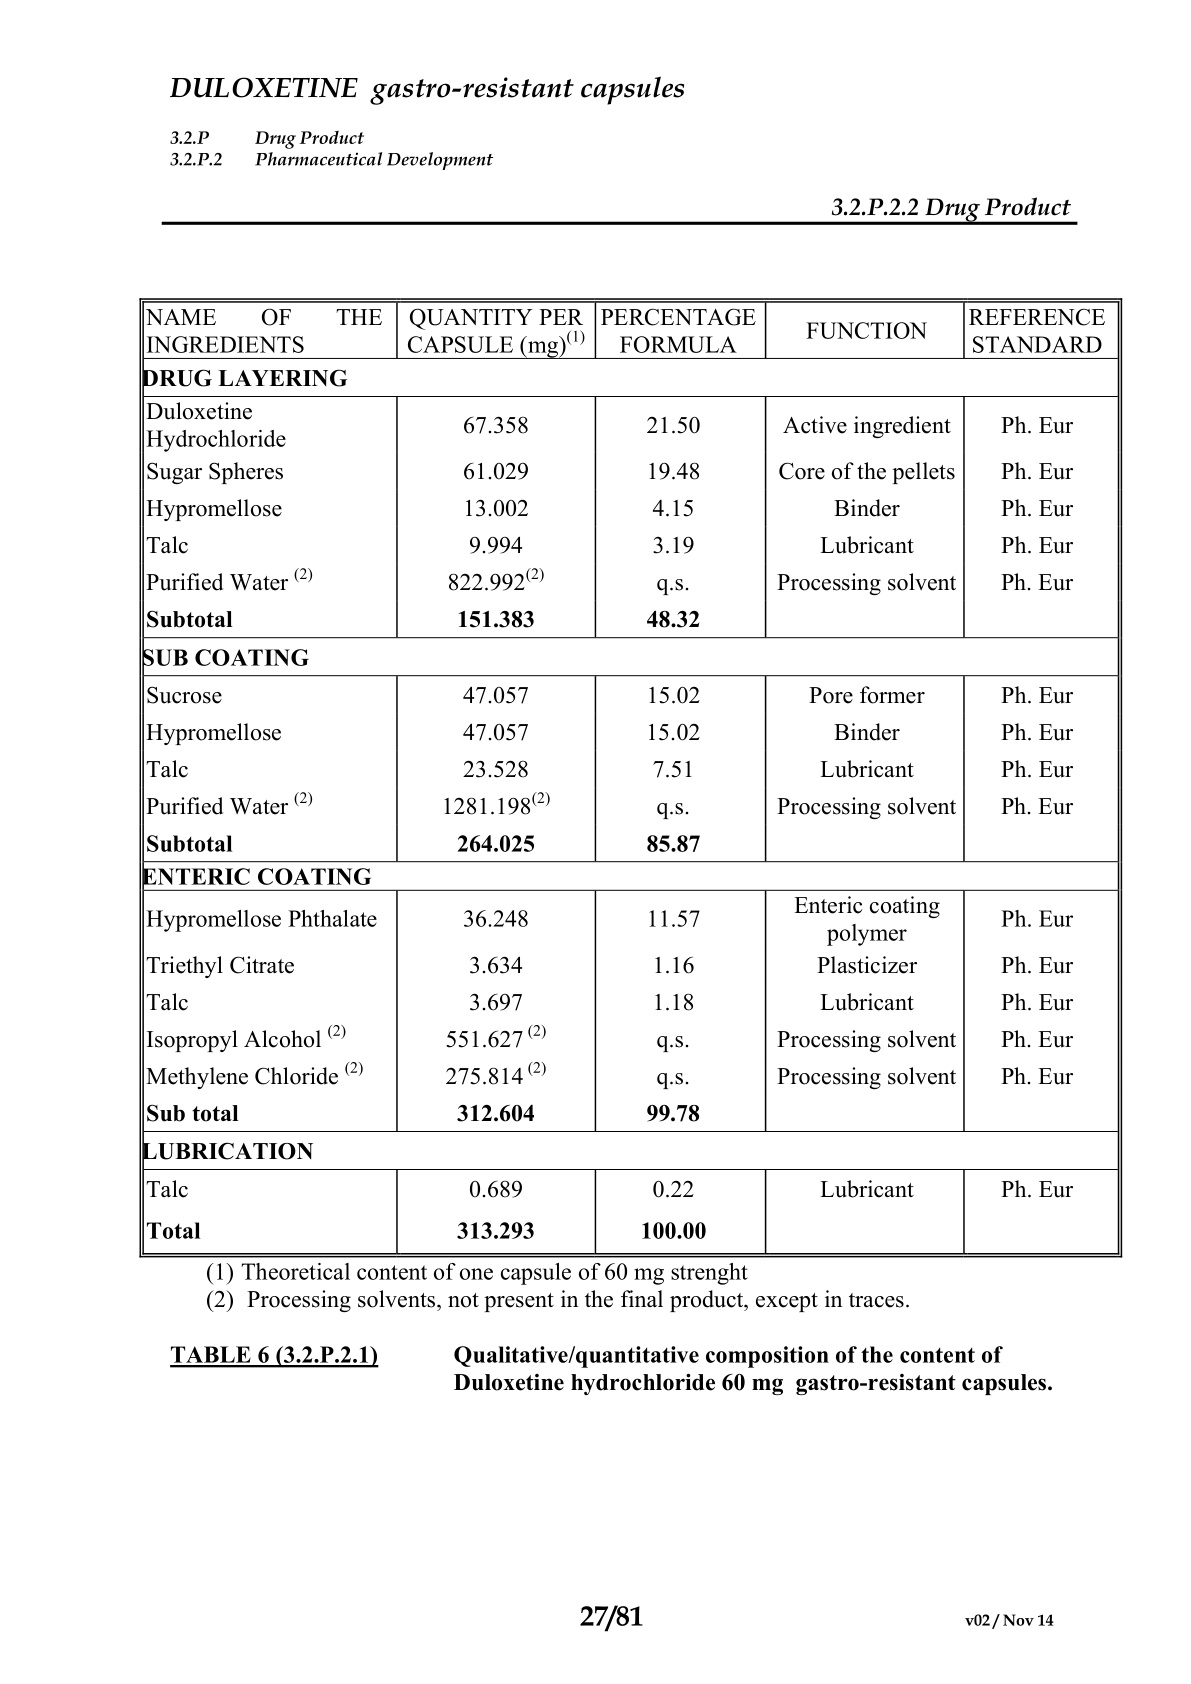merged_cells: (138, 296, 1123, 1258)
